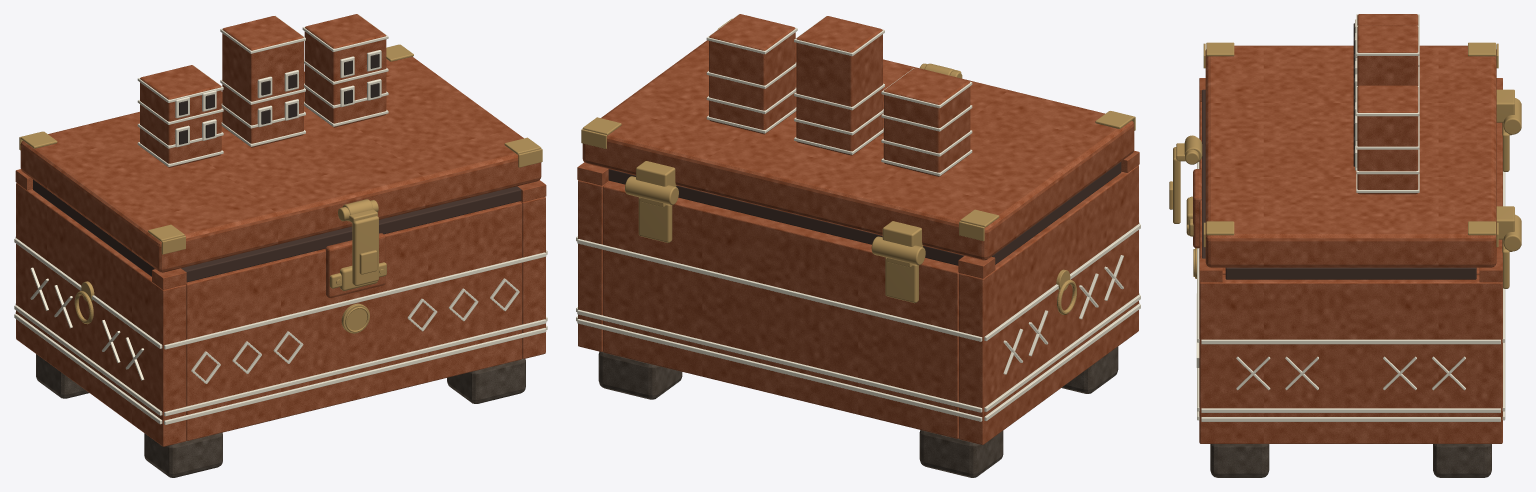
Rendered from yemen.glb.
The picture shows the model from 3 angles, left to right: view 1: azimuth 30°, elevation 25°; view 2: azimuth 150°, elevation 25°; view 3: azimuth 270°, elevation 25°; orthographic projection. The views are drawn at different scales.
Visible parts, largest first — view 1: Lid / polished slab, Earth / facade, Earth / side, Tower / house 1, Tower / house 2, Tower / house 0, Mineral seam / long, Earth / side.001, Stone foot, Stone foot.002, Gypsum / facade band.002, Gypsum / facade band.004 (+10 smaller); view 2: Earth / facade.001, Lid / polished slab, Earth / side, Tower / house 1, Tower / house 2, Tower / house 0, Earth / side.001, Mineral seam / long.001, Stone foot.001, Stone foot.003, Gypsum / facade band.003, Gypsum / facade band.001 (+13 smaller); view 3: Lid / polished slab, Earth / side.001, Tower / house 2, Tower / house 1, Mineral seam / side.001, Stone foot.002, Stone foot.003, Gypsum / side band.005, Gypsum / side band.001, Gypsum / side band.003, Tower / house 0, Earth / facade.001 (+13 smaller).
Boxes of the visible parts, <box> form: Lid / polished slab: <box>20,56,541,272</box>; Earth / facade: <box>186,201,521,440</box>; Earth / side: <box>16,183,186,446</box>; Tower / house 1: <box>222,16,303,147</box>; Tower / house 2: <box>304,14,386,127</box>; Tower / house 0: <box>140,65,221,167</box>; Mineral seam / long: <box>181,186,521,282</box>; Earth / side.001: <box>520,197,545,358</box>; Stone foot: <box>144,432,222,477</box>; Stone foot.002: <box>447,359,525,403</box>; Gypsum / facade band.002: <box>164,319,546,416</box>; Gypsum / facade band.004: <box>164,252,546,349</box>; Earth / facade.001: <box>603,181,958,438</box>; Lid / polished slab: <box>582,40,1134,260</box>; Earth / side: <box>959,165,1138,444</box>; Tower / house 1: <box>796,16,882,155</box>; Tower / house 2: <box>709,14,795,134</box>; Tower / house 0: <box>883,68,970,176</box>; Earth / side.001: <box>578,180,609,351</box>; Mineral seam / long.001: <box>608,169,964,265</box>; Stone foot.001: <box>919,430,1003,477</box>; Stone foot.003: <box>598,351,682,399</box>; Gypsum / facade band.003: <box>577,309,982,412</box>; Gypsum / facade band.001: <box>577,319,982,421</box>; Lid / polished slab: <box>1205,45,1496,267</box>; Earth / side.001: <box>1199,275,1502,443</box>; Tower / house 2: <box>1357,85,1418,194</box>; Tower / house 1: <box>1357,25,1418,85</box>; Mineral seam / side.001: <box>1225,267,1476,279</box>; Stone foot.002: <box>1210,444,1269,477</box>; Stone foot.003: <box>1433,444,1491,477</box>; Gypsum / side band.005: <box>1201,339,1500,344</box>; Gypsum / side band.001: <box>1201,417,1500,421</box>; Gypsum / side band.003: <box>1201,408,1500,412</box>; Tower / house 0: <box>1357,14,1418,25</box>; Earth / facade.001: <box>1496,122,1502,258</box>.
Size of the model in its own units: 3.82 by 3.18 by 2.88.
Materials: 6 (2 with a texture image).
